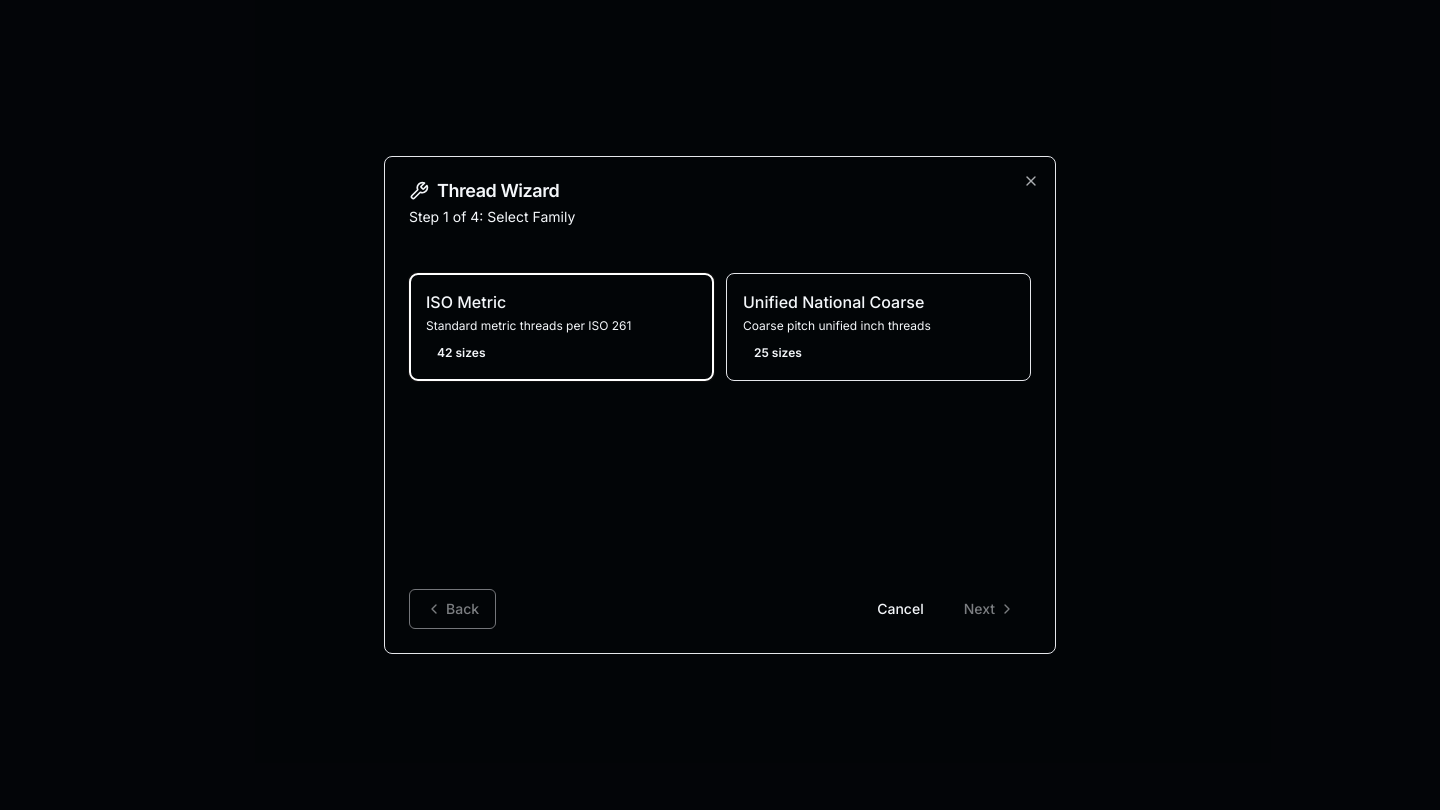
Test: ThreadWizard › navigates back from size step to family step
Go to size step
What coordinates should you click on to do the following:
click the button with test id "family-iso_metric"
I would click on:
 (562, 327)
Its box is [409,273,714,381].
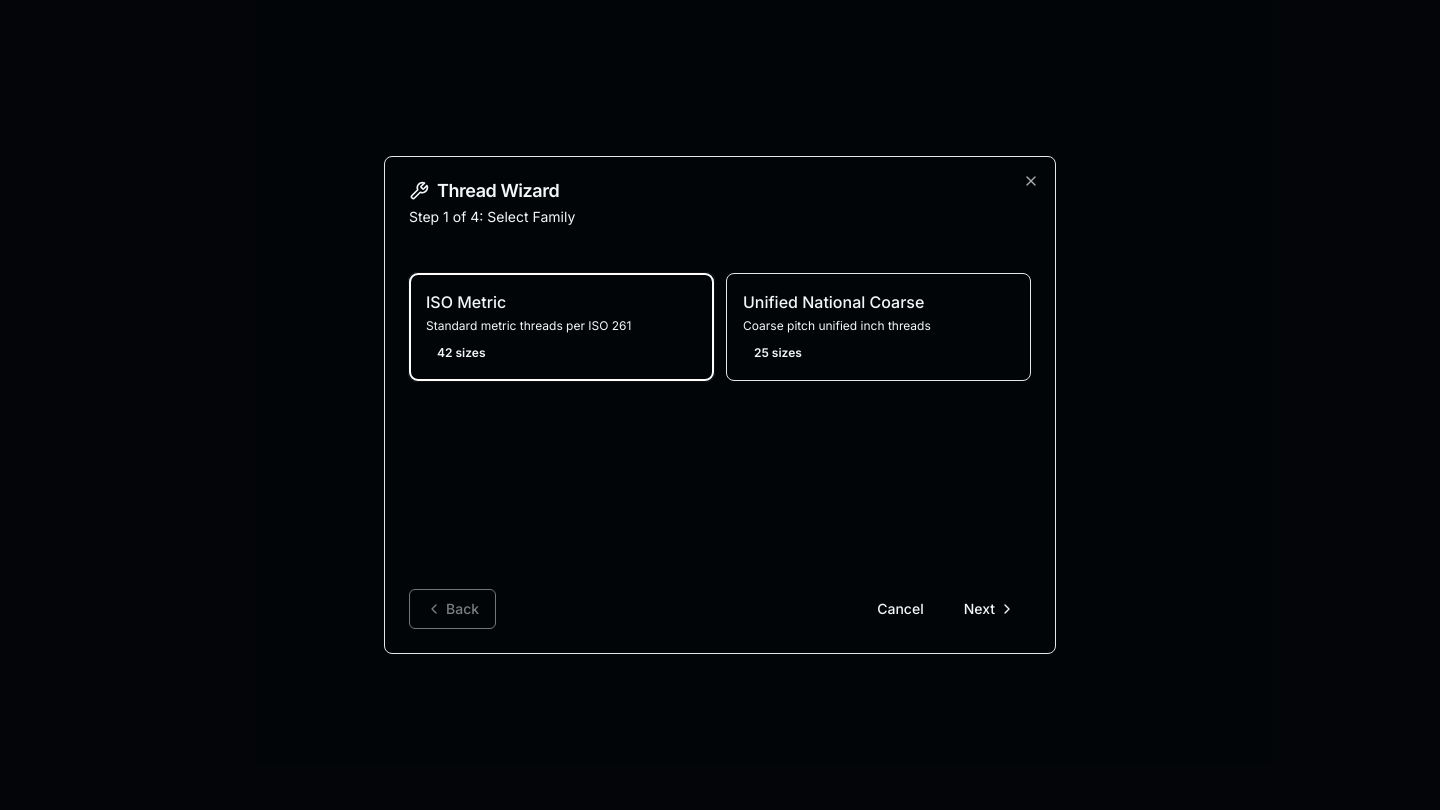
What coordinates should you click on to do the following:
click the button with test id "wizard-next"
I would click on:
 (989, 609)
Its box is [948,589,1031,629].
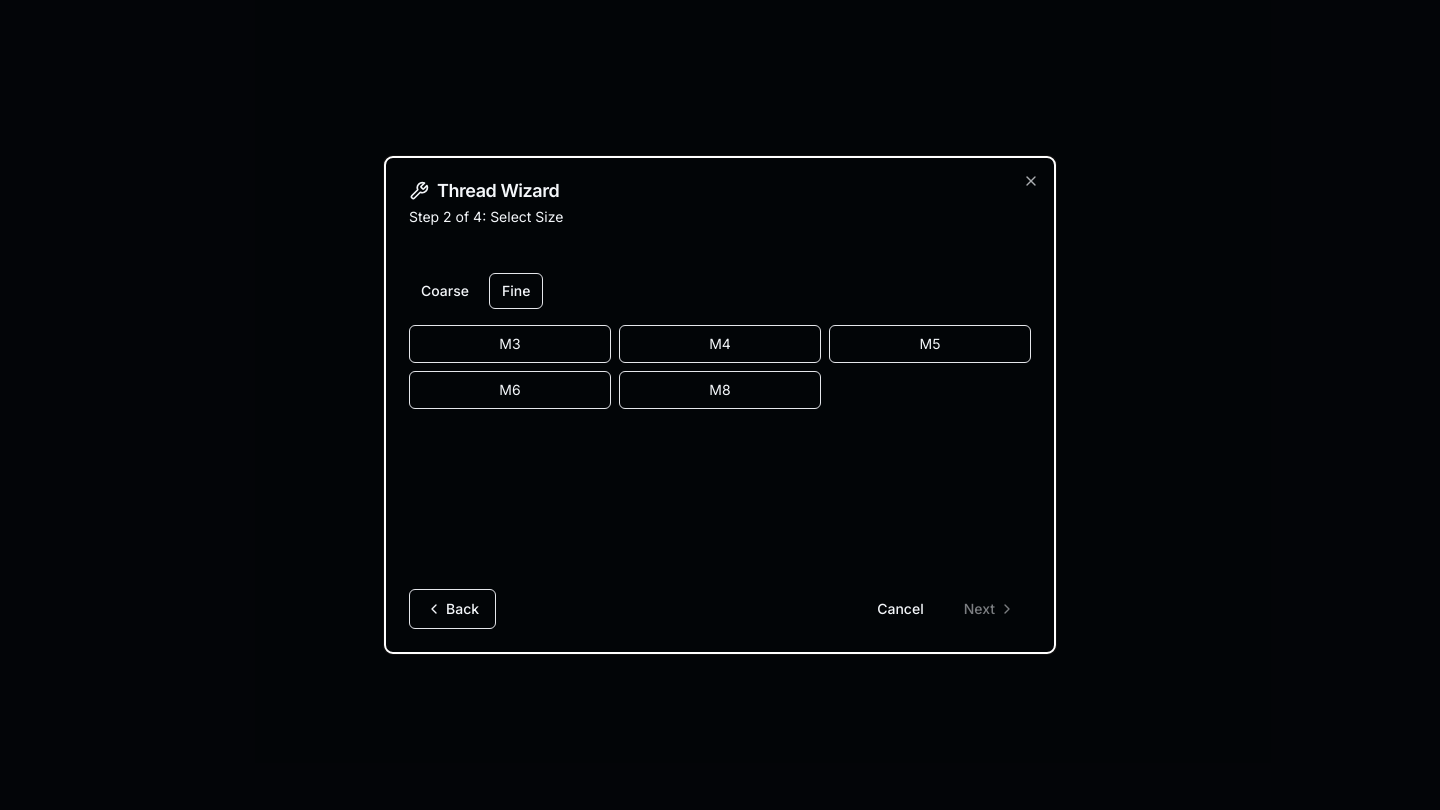
Expected: the element with test id "size-list" is shown, [409,325,1031,409]
 Go back
What coordinates should you click on to do the following:
click the button with test id "wizard-back"
I would click on:
 (453, 609)
Its box is [409,589,496,629].
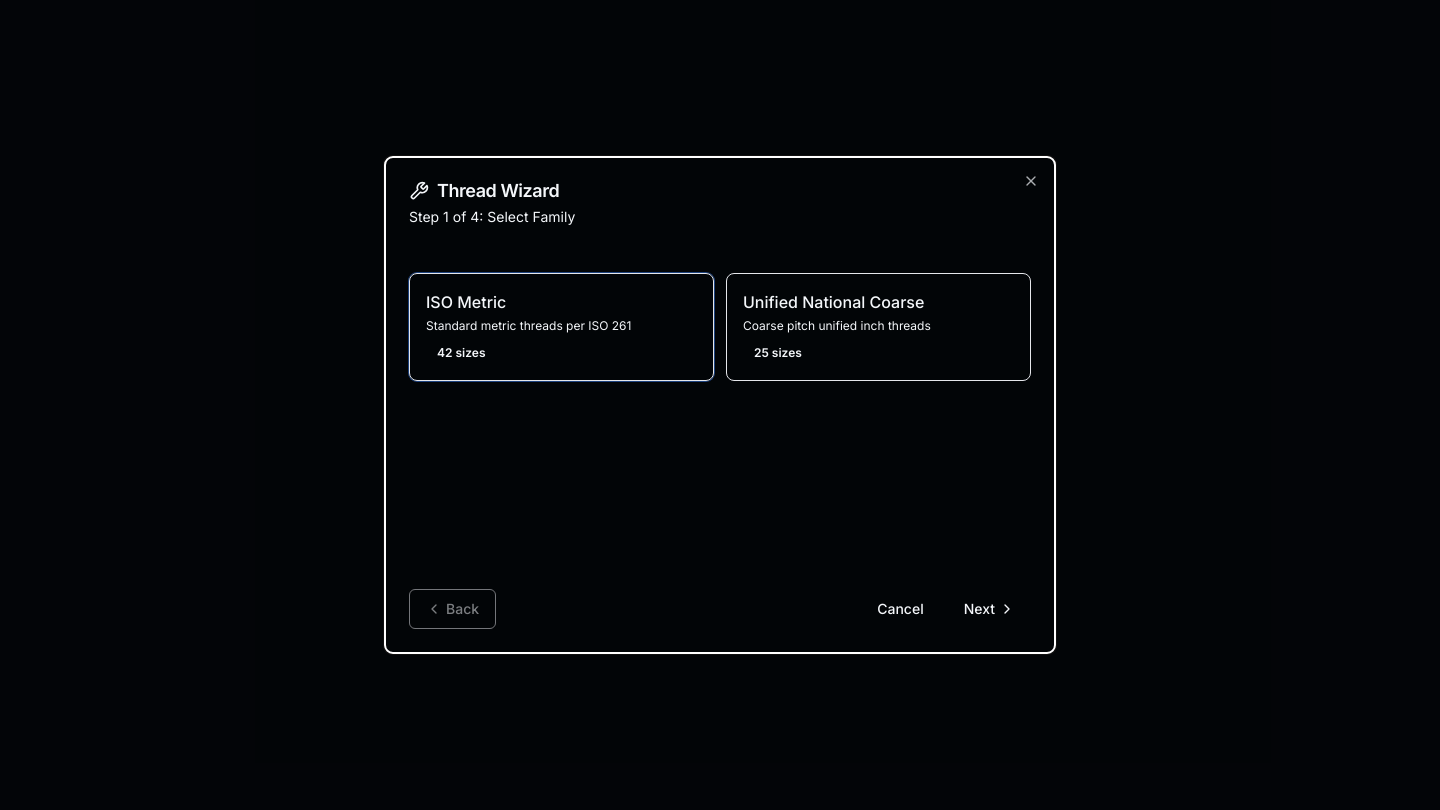
Expected: the element with test id "family-list" is shown, [409,273,1031,381]
